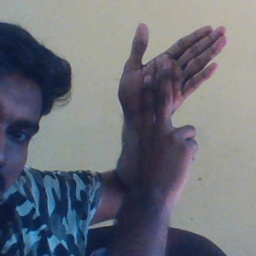N: (114, 20, 233, 162)
